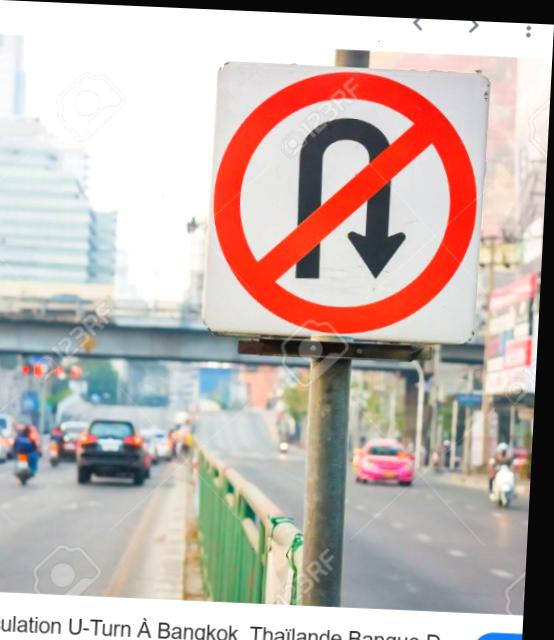not_u_turn_right: (202, 56, 497, 343)
